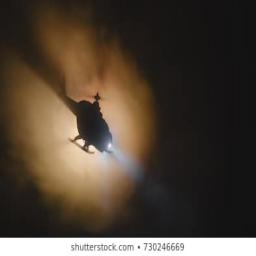helicopter: (55, 70, 124, 160)
